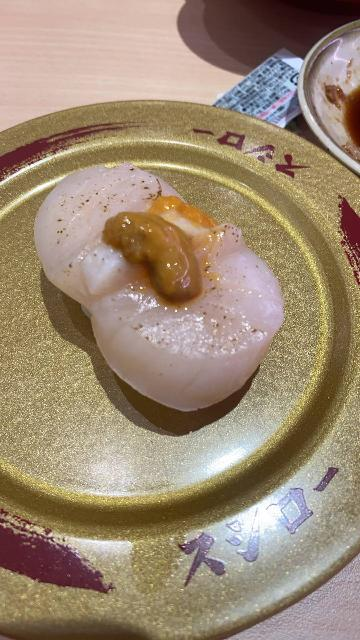jangold: (0, 98, 360, 640)
